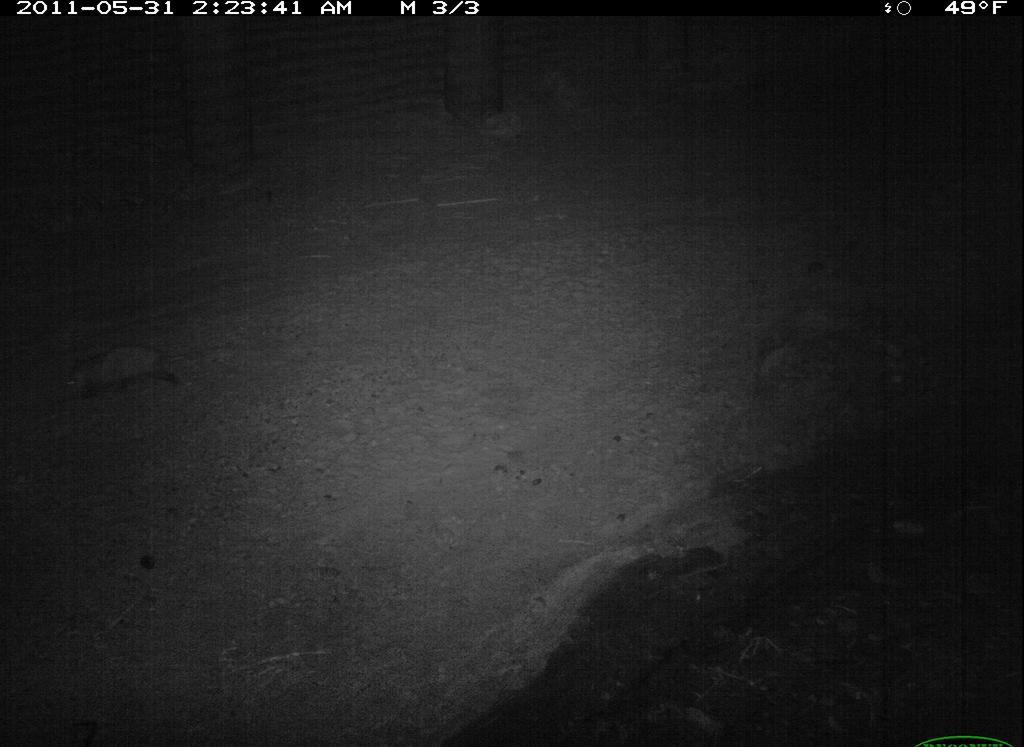opossum: (53, 333, 232, 408)
